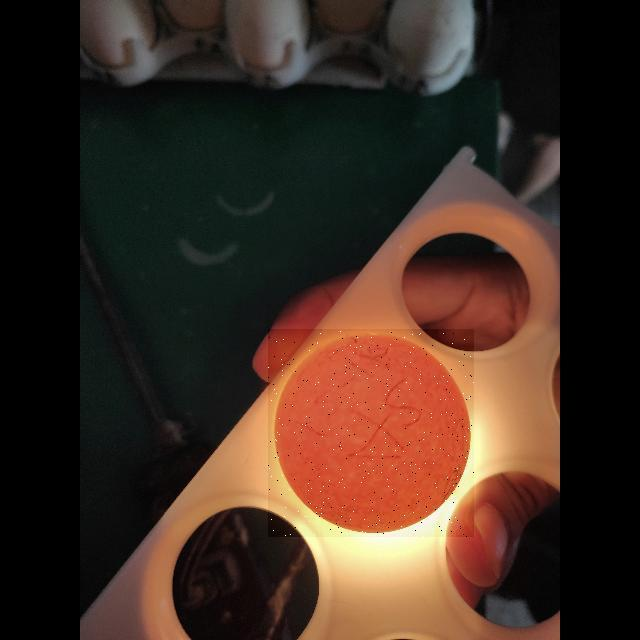Inedible: (272, 328, 477, 544)
